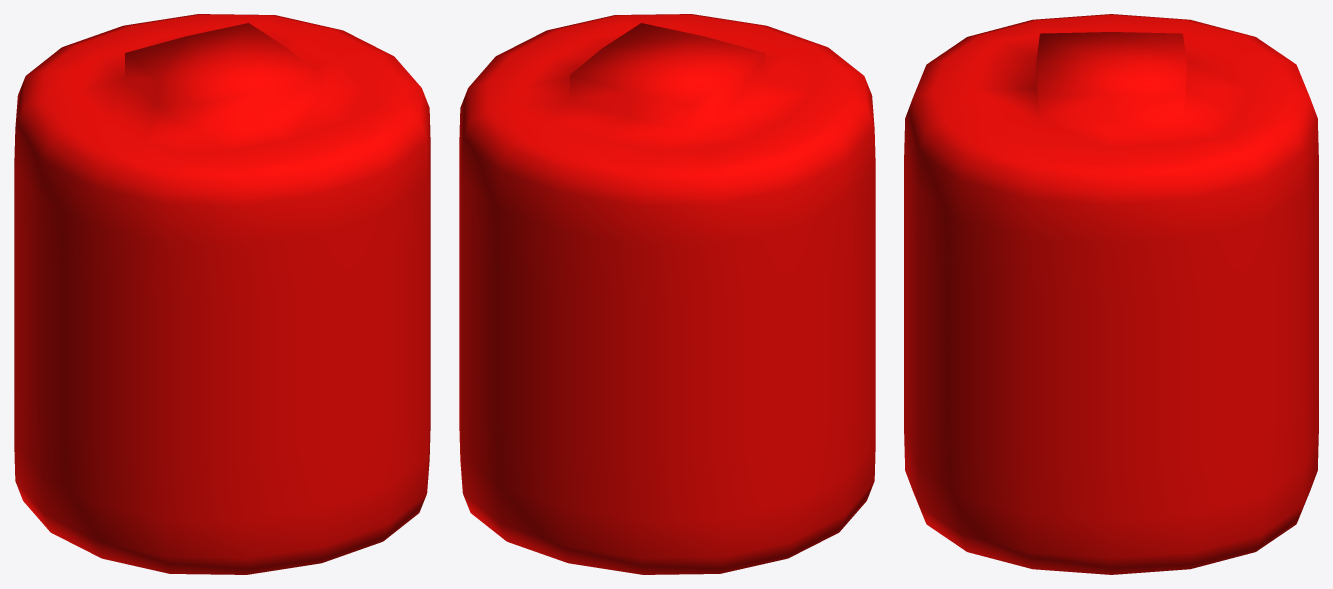
The model's file is Battery.fbx.
The picture shows the model from 3 angles, left to right: view 1: azimuth 30°, elevation 25°; view 2: azimuth 150°, elevation 25°; view 3: azimuth 270°, elevation 25°; orthographic projection.
Visible parts, largest first — view 1: Cube; view 2: Cube; view 3: Cube.
Boxes of the visible parts, x1,y1,x2,y2 form: Cube: (14, 14, 430, 574); Cube: (459, 14, 875, 574); Cube: (904, 14, 1318, 574).
Bounding box in the file's own units: 183 × 213 × 183.
